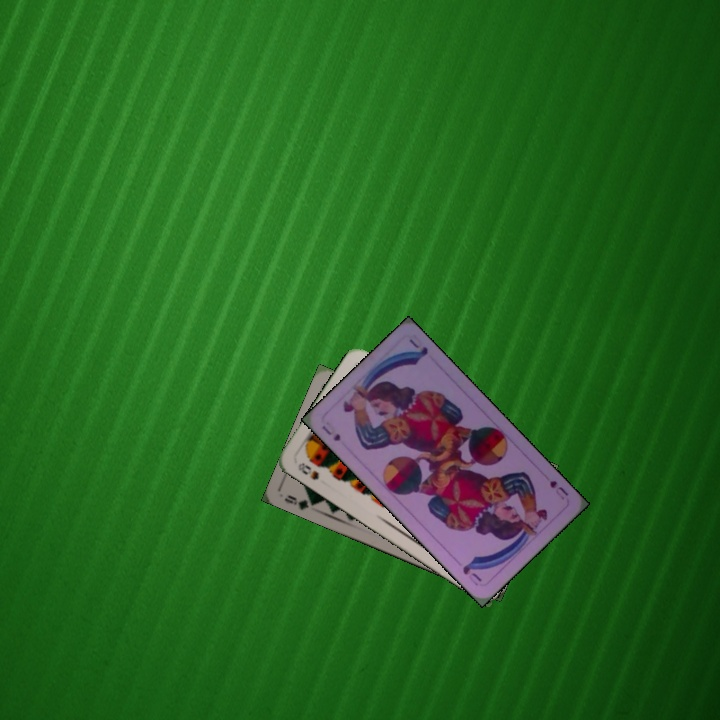G9: (280, 491, 320, 513)
S8: (294, 459, 322, 483)
SU: (545, 476, 571, 502), (318, 421, 343, 444)
